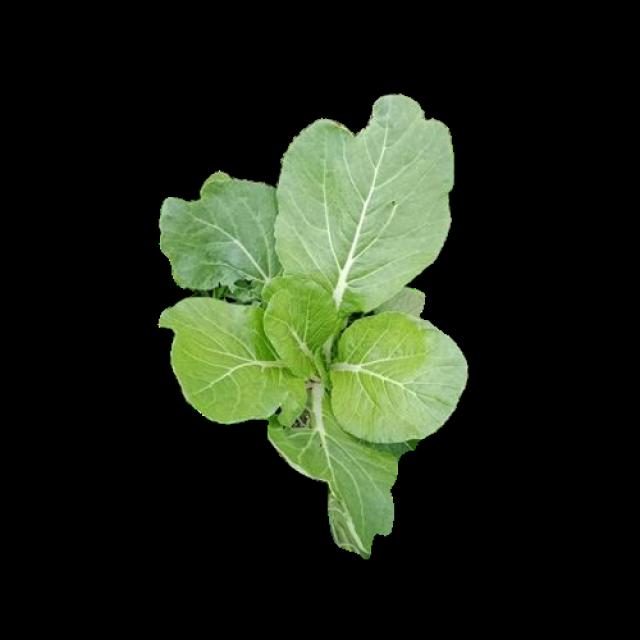mature: (162, 96, 464, 552)
unhealthy: (275, 99, 456, 307), (264, 410, 411, 554), (164, 174, 280, 297)
